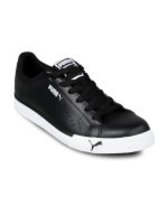shoes: (13, 50, 157, 155)
